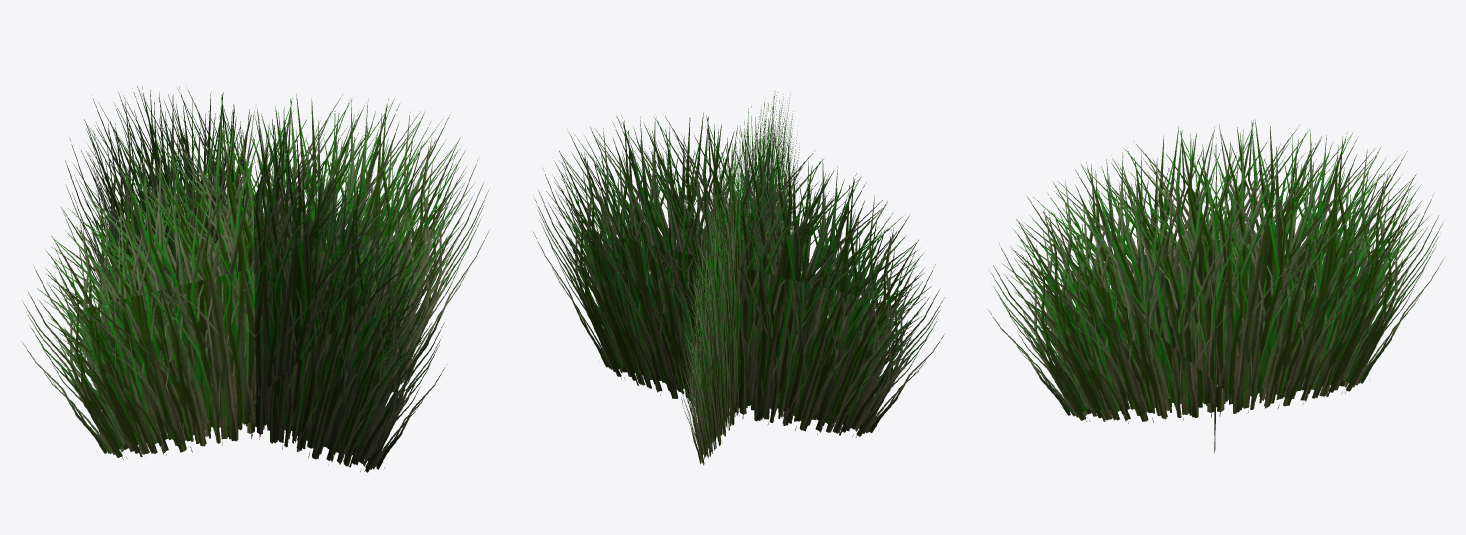
File: grass3.fbx
3 views of the same model, side by side, from view 1: azimuth 30°, elevation 25°; view 2: azimuth 150°, elevation 25°; view 3: azimuth 270°, elevation 25° (orthographic). The views are drawn at different scales.
Visible parts, largest first — view 1: grass3; view 2: grass3; view 3: grass3.
Boxes of the visible parts, x1,y1,x2,y2 form: grass3: (22, 86, 489, 472); grass3: (533, 91, 944, 465); grass3: (988, 119, 1444, 453).
Bounding box in the file's own units: 107 × 73.54 × 104.
1 material, 1 textured.
